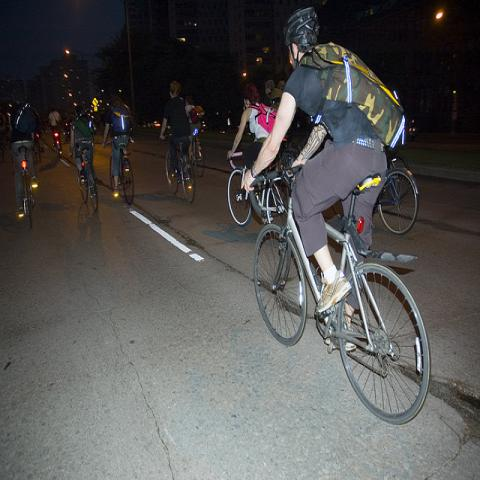car: (406, 119, 419, 142)
